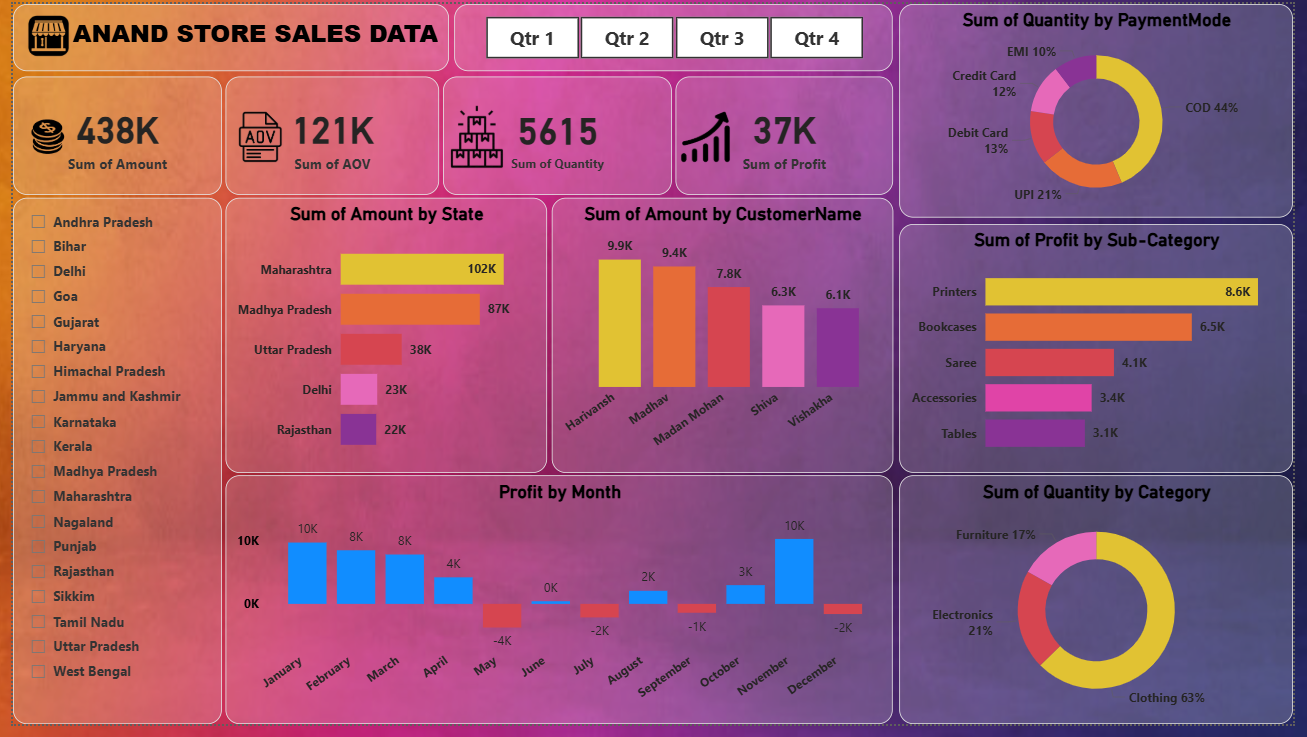

This screenshot's page, from the dashboard's own definition file:
{"tool":"powerbi","page":{"name":"Page 1","canvas":[1280,720],"ordinal":0},"visuals":[{"type":"textbox","box":[0,0,436.2,67.5],"z":0},{"type":"image","box":[0,4.7,70.6,54.1],"z":1000},{"type":"columnChart","title":" Profit by Month","fields":{"Y":["Details.Profit"],"Category":["Sheet1.Order Date.Variation.Date Hierarchy.Month"]},"box":[212.5,471.2,667.5,248.8],"z":2000},{"type":"barChart","fields":{"Category":["Details.Sub-Category"],"Y":["Details.Profit"]},"box":[886.2,220,393.8,248.8],"z":3000},{"type":"donutChart","fields":{"Y":["Details.Quantity"],"Category":["Details.Category"]},"box":[886.2,471.2,393.8,248.8],"z":4000},{"type":"donutChart","fields":{"Y":["Details.Quantity"],"Category":["Details.PaymentMode"]},"box":[886.2,0,393.8,213.8],"z":5000},{"type":"card","fields":{"Values":["Details.Amount"]},"box":[0,72.5,208.8,118.8],"z":6000},{"type":"card","fields":{"Values":["Details.AOV"]},"box":[212.5,72.5,213.8,118.8],"z":7000},{"type":"card","fields":{"Values":["Details.Profit"]},"box":[662.5,72.5,217.5,118.8],"z":8000},{"type":"card","fields":{"Values":["Details.Quantity"]},"box":[430,72.5,228.8,118.8],"z":9000},{"type":"barChart","fields":{"Category":["Sheet1.State"],"Y":["Details.Amount"]},"box":[212.5,193.8,321.2,275],"z":10000},{"type":"columnChart","fields":{"Category":["Sheet1.CustomerName"],"Y":["Details.Amount"]},"box":[538.8,193.8,341.2,275],"z":11000},{"type":"slicer","fields":{"Values":["Sheet1.Order Date.Variation.Date Hierarchy.Quarter"]},"box":[441.2,0,438.8,67.5],"z":12000},{"type":"slicer","fields":{"Values":["Sheet1.State"]},"box":[0,193.8,208.8,526.2],"z":13000},{"type":"image","box":[662.5,92.5,60,80],"z":14000},{"type":"image","box":[426.2,88.8,75,87.5],"z":15000},{"type":"image","box":[0,87.5,70,90],"z":16000},{"type":"image","box":[212.5,95,68.8,73.8],"z":17000}]}

Visuals, with their boxes in screenshot pixels (x1, y1, x2, y2), scaled from the page's 1280x720 canvas onto the 1307x737 screenshot:
textbox: [0,0,445,69]
image: [0,5,72,60]
" Profit by Month" columnChart: [217,482,899,736]
barChart - Details.Sub-Category x Details.Profit: [905,225,1306,480]
donutChart - Details.Quantity x Details.Category: [905,482,1306,736]
donutChart - Details.Quantity x Details.PaymentMode: [905,0,1306,219]
card - Details.Amount: [0,74,213,196]
card - Details.AOV: [217,74,435,196]
card - Details.Profit: [676,74,899,196]
card - Details.Quantity: [439,74,673,196]
barChart - Sheet1.State x Details.Amount: [217,198,545,480]
columnChart - Sheet1.CustomerName x Details.Amount: [550,198,899,480]
slicer - Sheet1.Order Date.Variation.Date Hierarchy.Quarter: [451,0,899,69]
slicer - Sheet1.State: [0,198,213,736]
image: [676,95,738,177]
image: [435,91,512,180]
image: [0,90,71,182]
image: [217,97,287,173]
